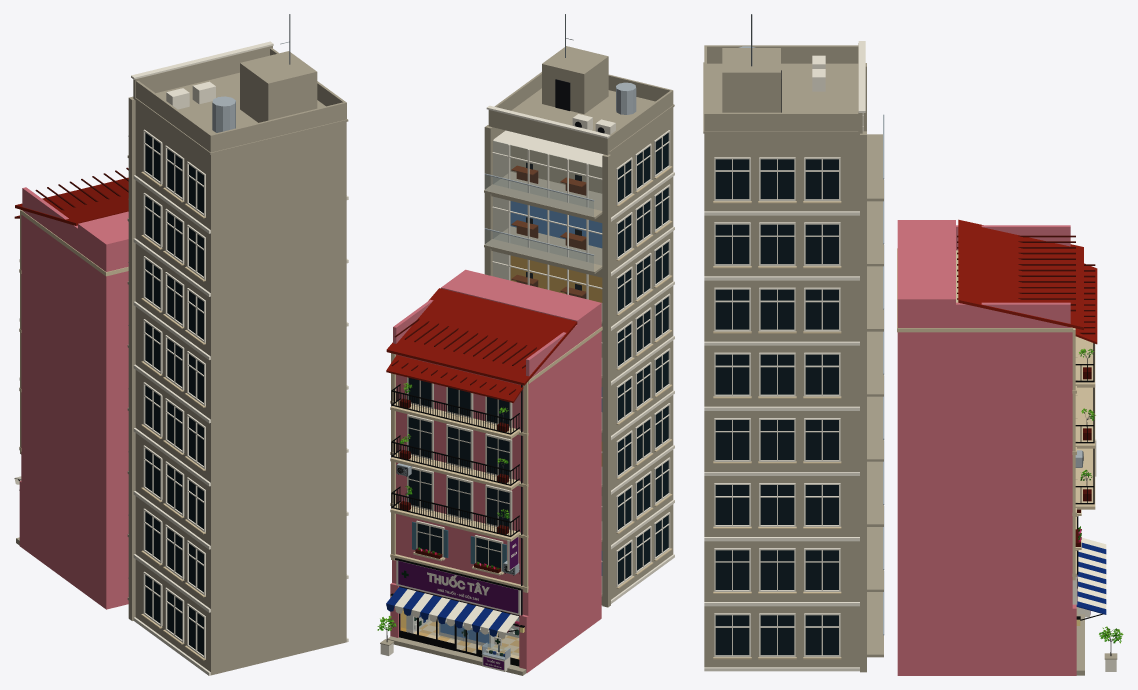
The model's file is PV_StreetShop04.fbx.
3 views of the same model, side by side, from view 1: azimuth 30°, elevation 25°; view 2: azimuth 150°, elevation 25°; view 3: azimuth 270°, elevation 25° (orthographic). The views are drawn at different scales.
Visible parts, largest first — view 1: PV_StreetShop04_LOD0; view 2: PV_StreetShop04_LOD0; view 3: PV_StreetShop04_LOD0.
Part boxes in pixels (<box>): PV_StreetShop04_LOD0: <box>14,14,348,675</box>; PV_StreetShop04_LOD0: <box>377,14,674,675</box>; PV_StreetShop04_LOD0: <box>703,14,1123,675</box>.
Size of what is drawn, in the model's own units: 8.46 by 31.4 by 18.71.
2 materials, 1 textured.
